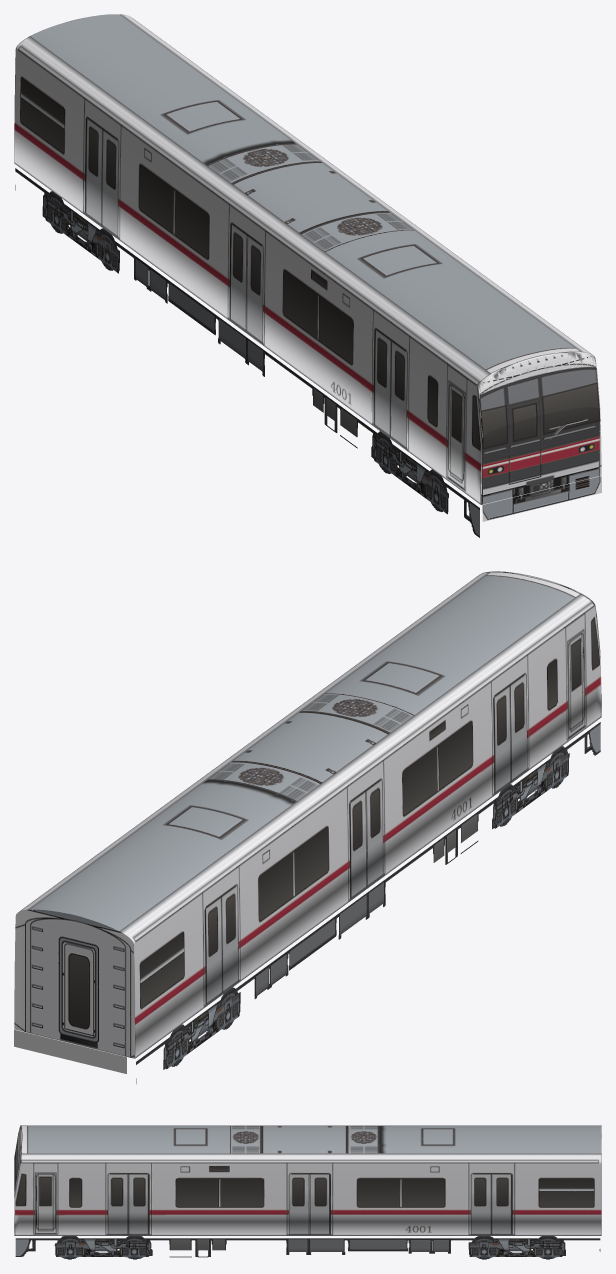
The model's file is car1.glb.
3 views of the same model, one above another, from view 1: azimuth 30°, elevation 25°; view 2: azimuth 150°, elevation 25°; view 3: azimuth 270°, elevation 25° (orthographic). The views are drawn at different scales.
Parts seen in each view (by area): view 1: meitetsu4000-car1; view 2: meitetsu4000-car1; view 3: meitetsu4000-car1.
Part boxes in pixels (box(x1,y1,x2,y2)): meitetsu4000-car1: box(14, 14, 601, 537); meitetsu4000-car1: box(14, 571, 601, 1083); meitetsu4000-car1: box(14, 1125, 601, 1259).
Bounding box in the file's own units: 2.74 × 3.62 × 18.41.
Materials: 10 (9 with a texture image).
